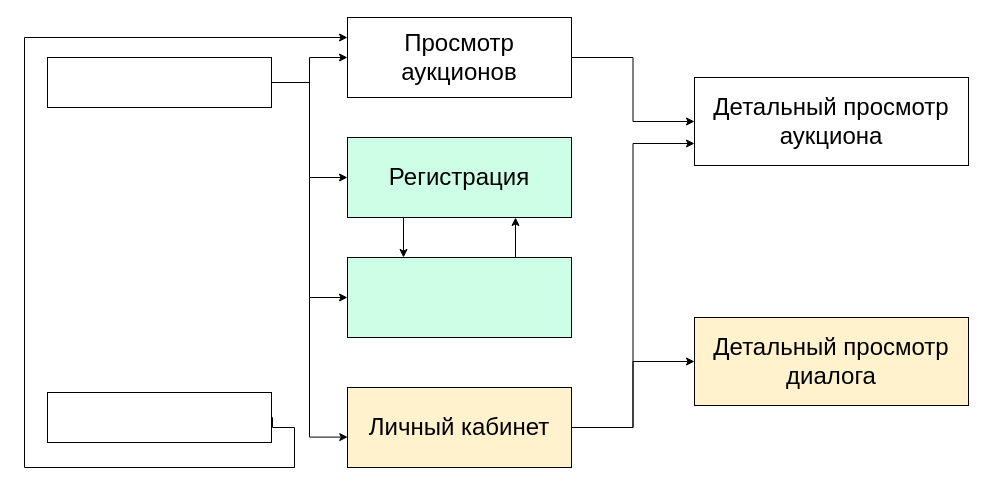
Some shapes in this 986 by 493 pixel diagram are drawn without their labels. Here are the shapes that lost their labels. From the top down, the centre of each, then its label:
At [159,82]: "Шапка страницы".
At [459,297]: "Авторизация".
At [159,417]: "Подвал страницы".
